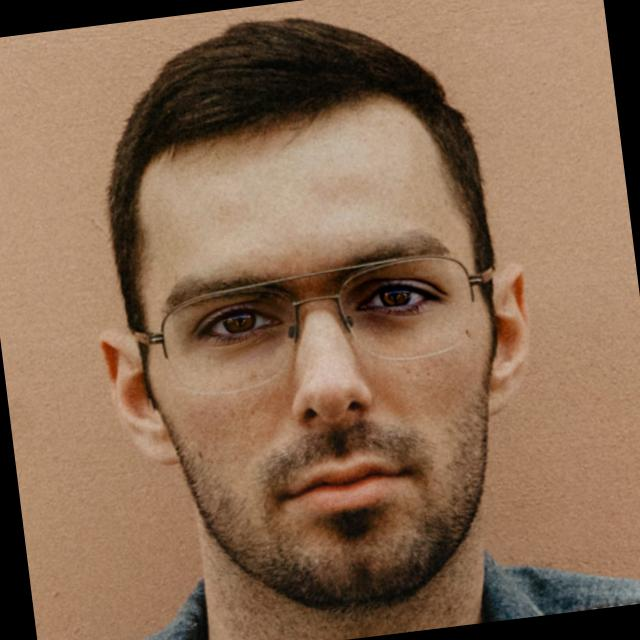face: (62, 0, 574, 635)
